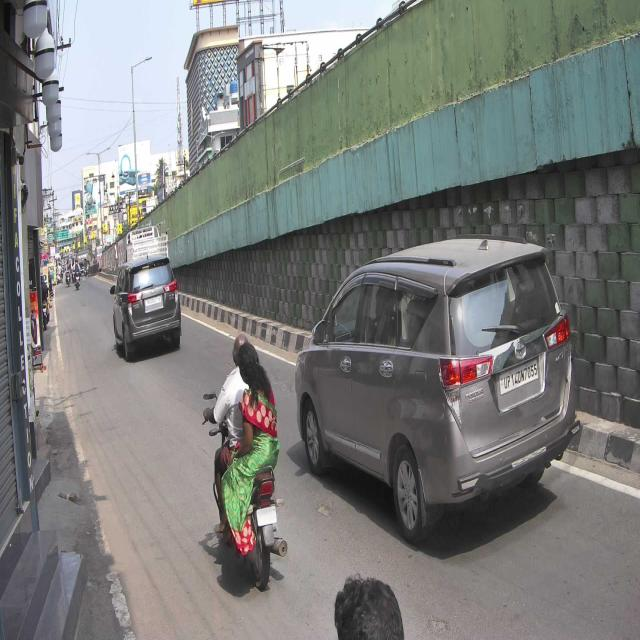double_rider: (201, 330, 286, 590)
